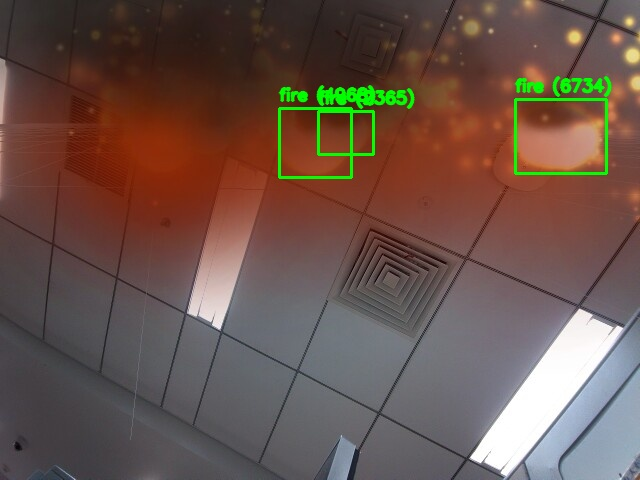fire: (515, 99, 606, 173), (279, 108, 351, 177), (318, 111, 373, 154)
